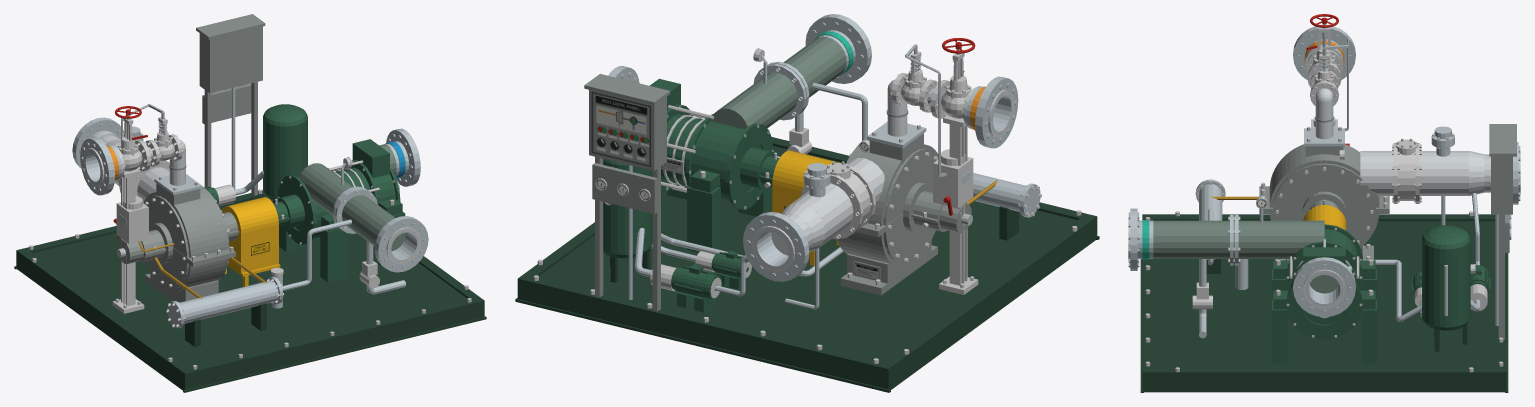
The model's file is compact.obj.
3 renders of one model, left to right at view 1: azimuth 30°, elevation 25°; view 2: azimuth 150°, elevation 25°; view 3: azimuth 270°, elevation 25°, orthographic. The views are drawn at different scales.
Size of the model in its own units: 0.9 by 0.5825 by 0.9.
